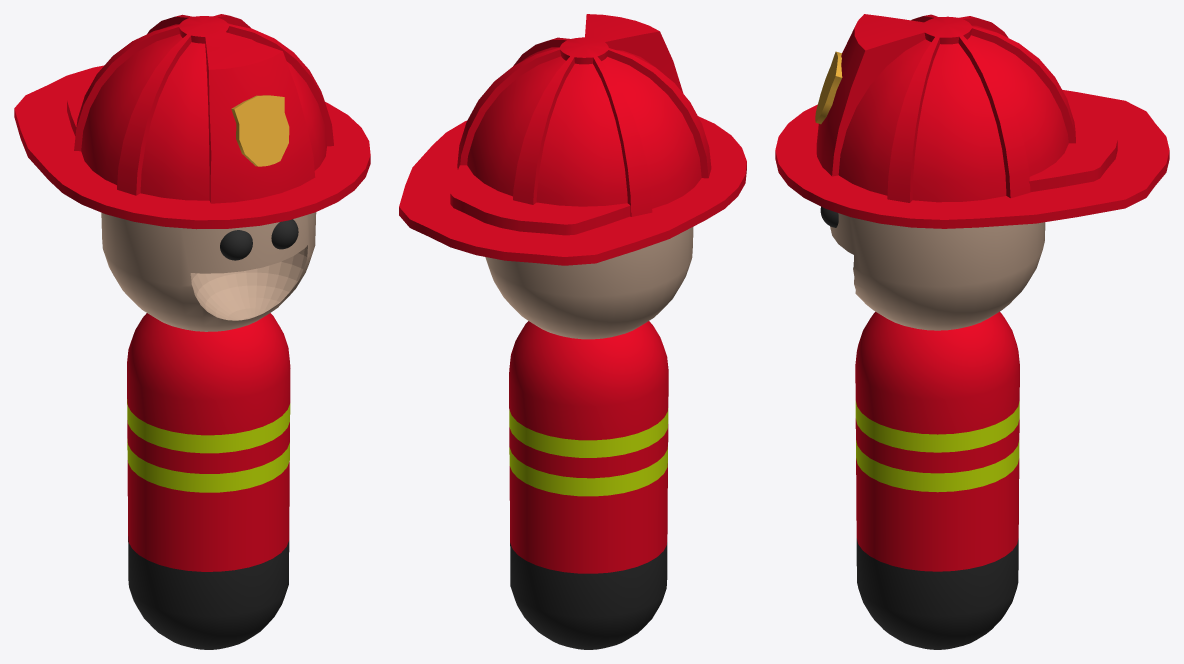
Rendered from playerHappy.fbx.
3 renders of one model, left to right at view 1: azimuth 30°, elevation 25°; view 2: azimuth 150°, elevation 25°; view 3: azimuth 270°, elevation 25°, orthographic. The views are drawn at different scales.
Parts seen in each view (by area): view 1: Helmet, Body, Head, Badge, Eye Left, Eye Right; view 2: Helmet, Body, Head; view 3: Helmet, Body, Head, Badge.
Boxes of the visible parts, x1,y1,x2,y2 form: Helmet: (14,14,370,229); Body: (127,313,290,649); Head: (101,212,316,331); Badge: (231,95,289,166); Eye Left: (220,230,252,260); Eye Right: (271,219,298,249); Helmet: (399,14,746,265); Body: (509,321,668,649); Head: (485,226,693,339); Helmet: (775,14,1169,228); Body: (855,311,1019,649); Head: (830,213,1045,330); Badge: (815,51,842,124).
Size of the model in its own units: 361 by 624 by 303.
